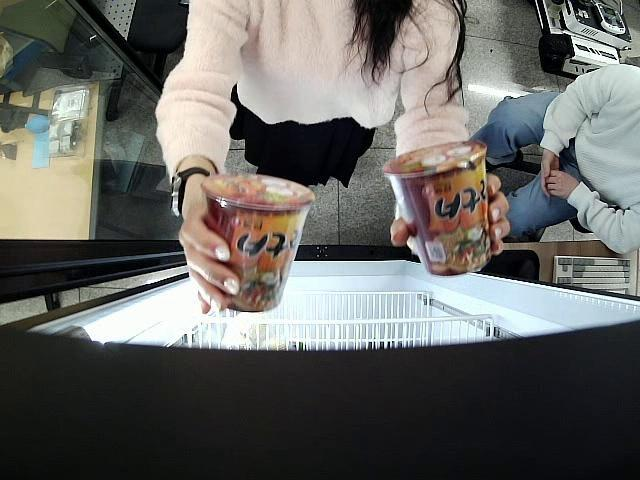06_nuguri_S: (198, 174, 314, 314), (382, 138, 492, 278)
